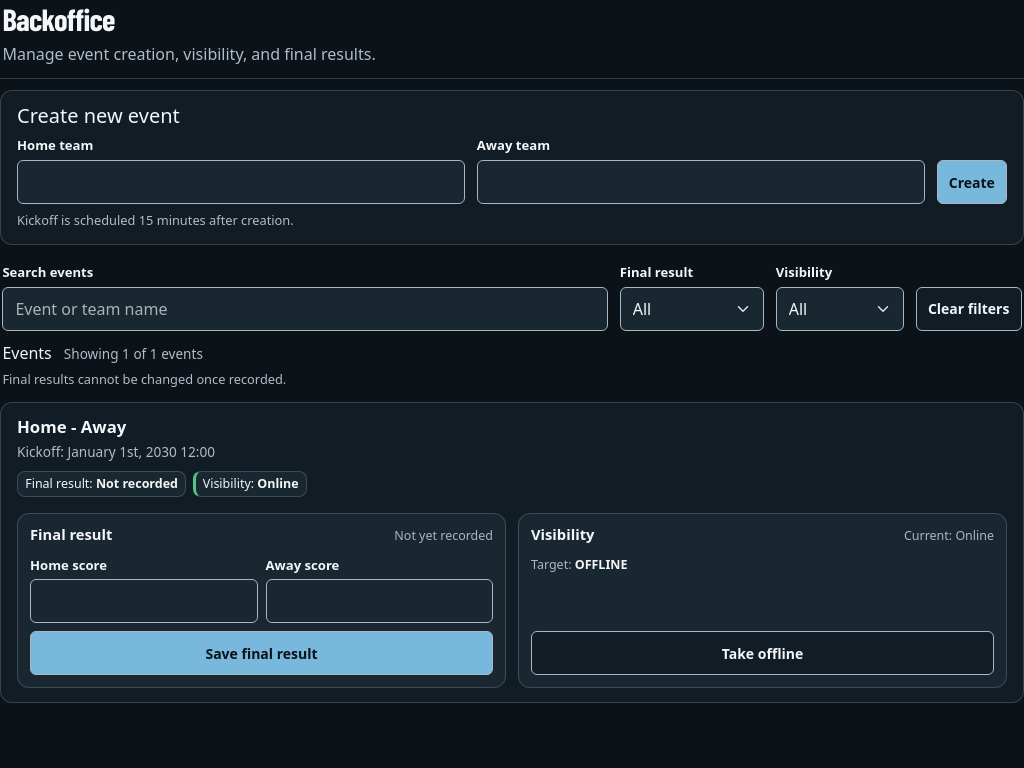
Test: public Backoffice access › surfaces a conflicting result instead of reporting false success
The width and height of the screenshot is (1024, 768).
Check: the heading "Home - Away" is shown, box [17, 415, 126, 438]
Type "3" into the number field labelled "Home score" at (144, 602), box [30, 580, 258, 624]
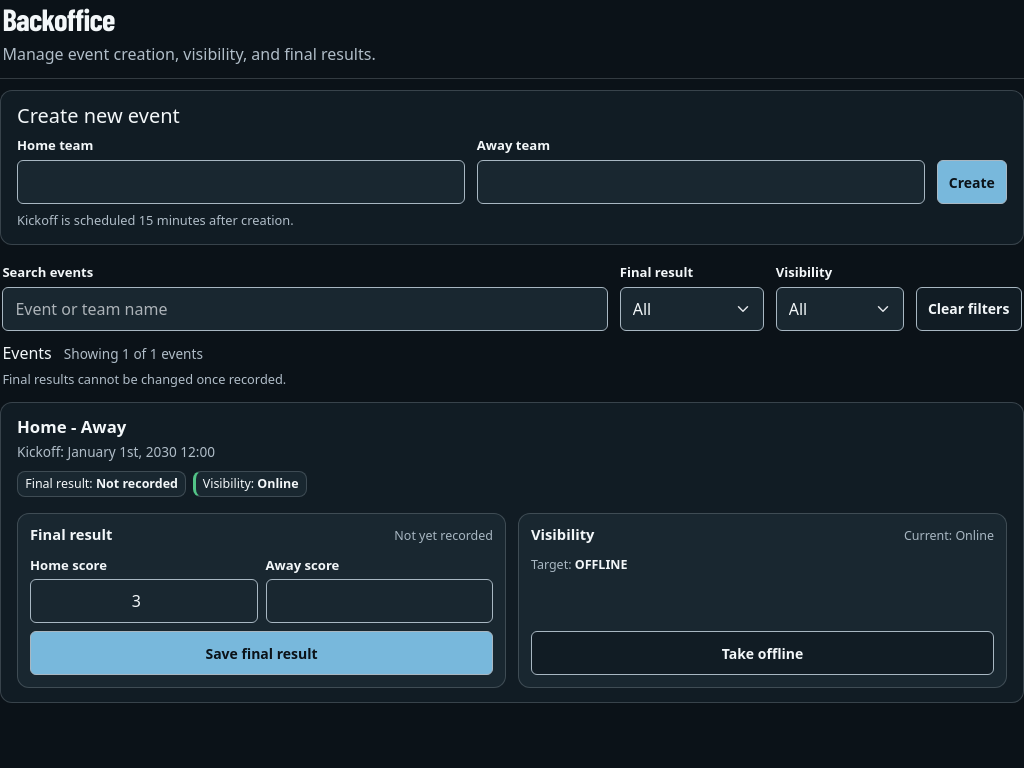
Type "1" into the number field labelled "Away score" at (379, 602), box [266, 580, 493, 624]
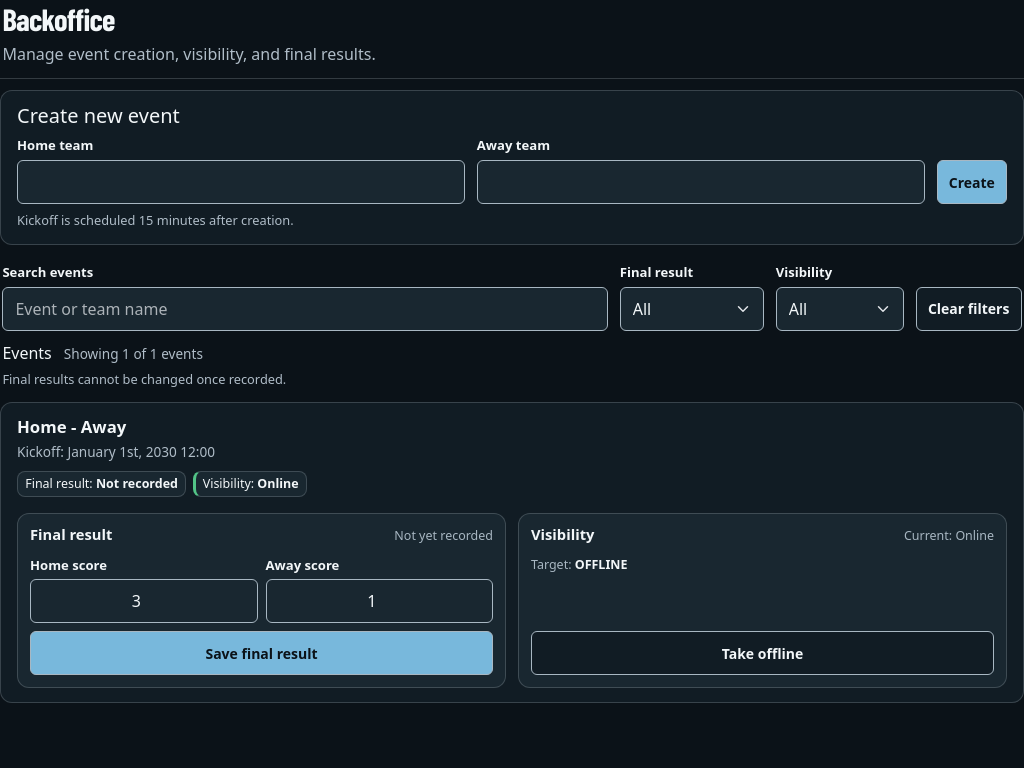
Click the button with aria-label "Save final result for Home - Away" at (262, 654), box [30, 632, 493, 676]
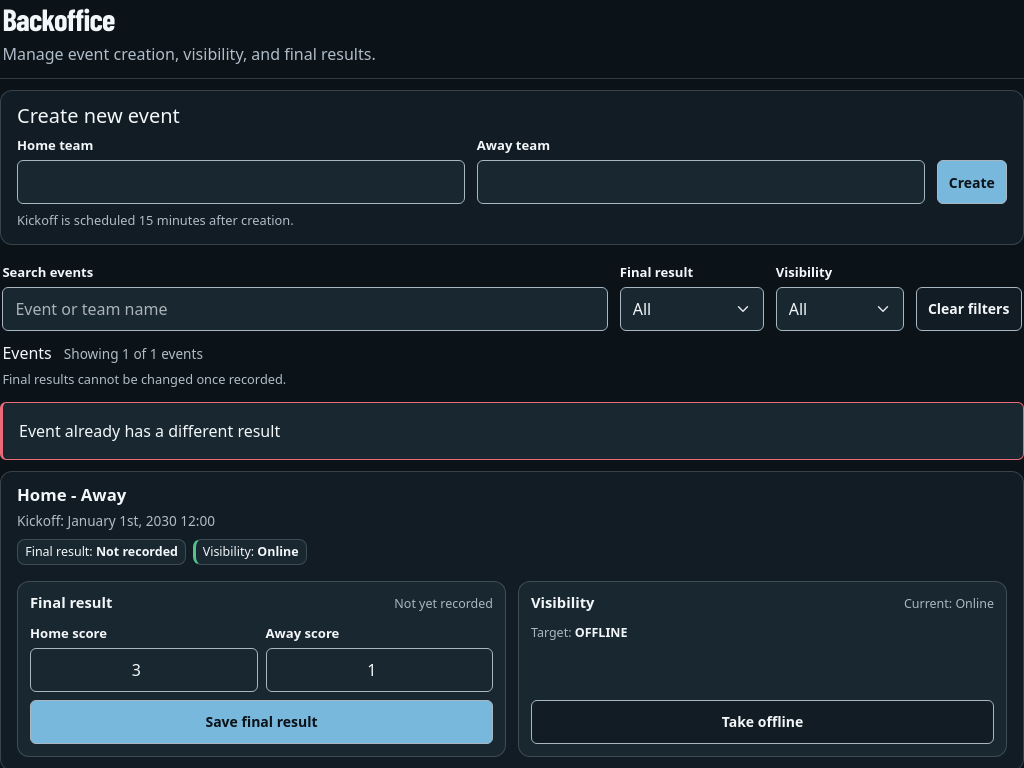
Check: the message reads "Event already has a different result", box [19, 420, 280, 442]
